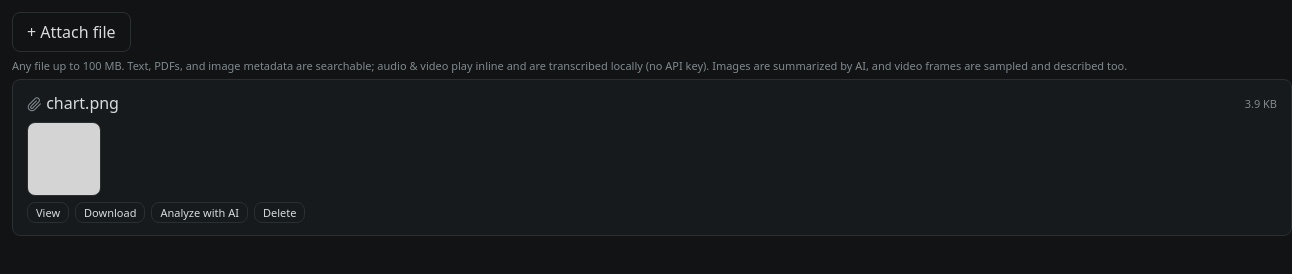
Attachments — enrich › Analyze with AI posts to /analyze and shows the analyzing state
Click the button "Analyze with AI".
click(200, 212)  # box [151,202,248,223]
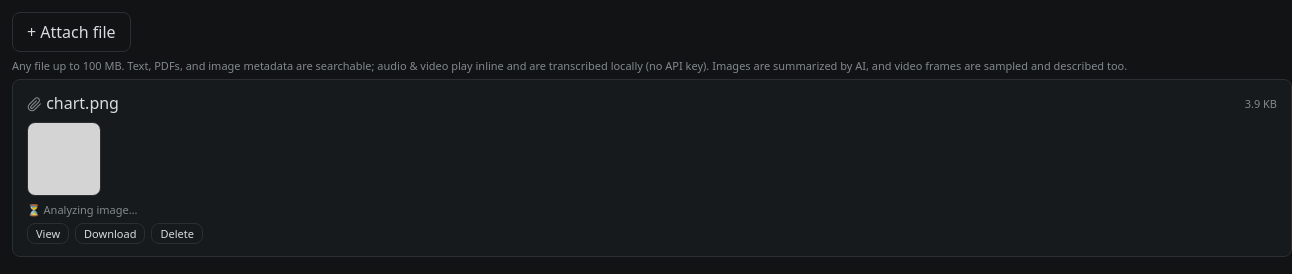
Expected: the text "⏳ Analyzing image…" is shown, [27,202,137,217]
